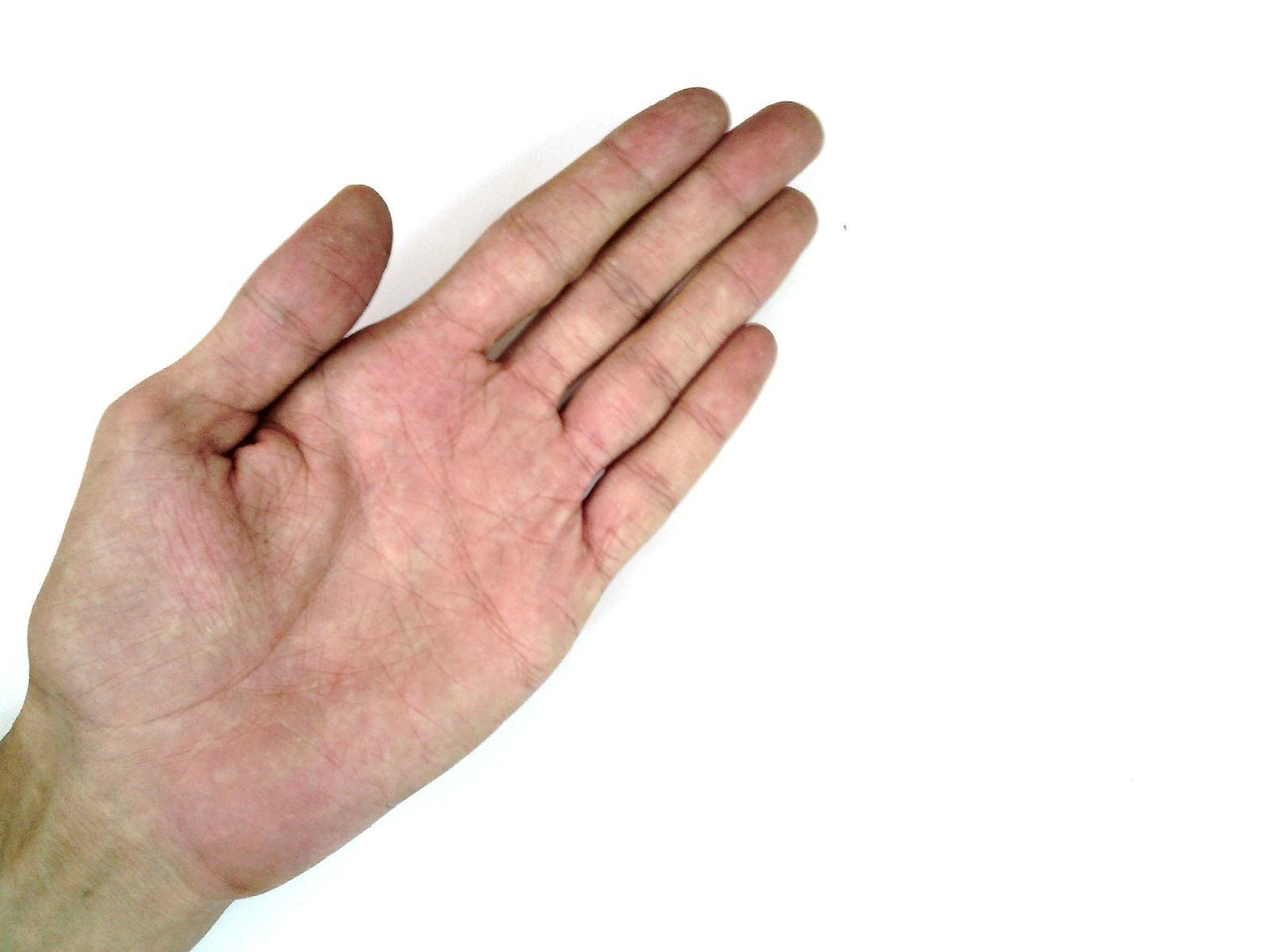open_palm: (22, 85, 825, 907)
